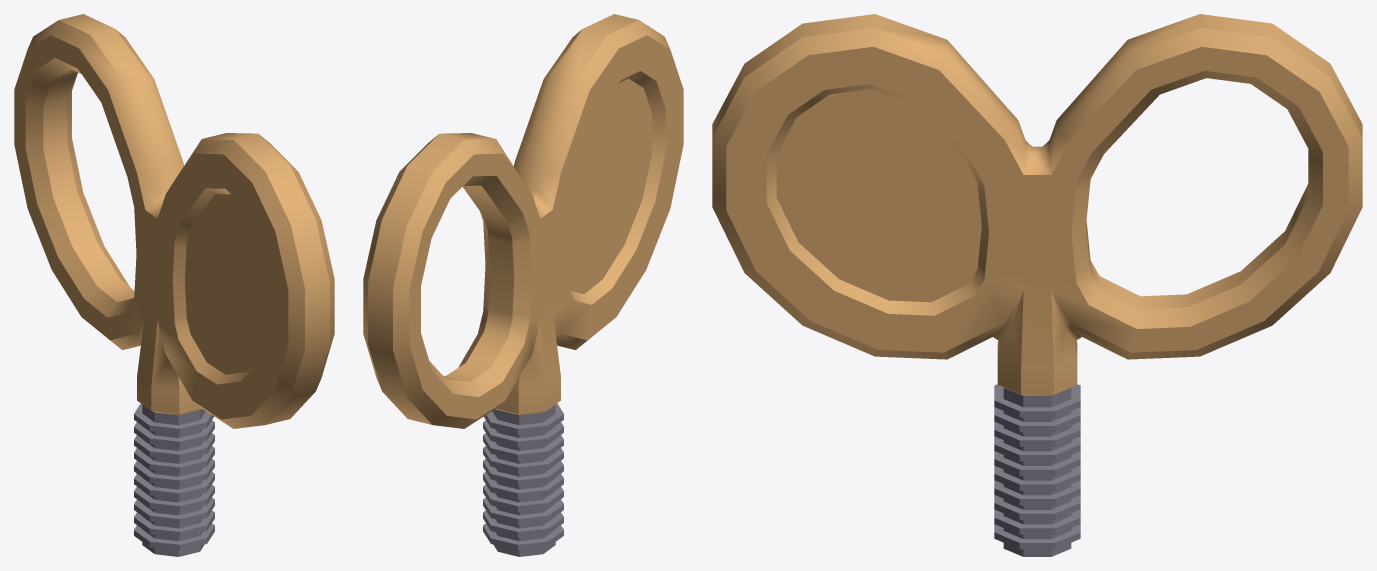
Rendered from Aufziehschlüssel_02_SingleHole.fbx.
The picture shows the model from 3 angles, left to right: view 1: azimuth 30°, elevation 25°; view 2: azimuth 150°, elevation 25°; view 3: azimuth 270°, elevation 25°; orthographic projection. The views are drawn at different scales.
Parts seen in each view (by area): view 1: Aufziehschlüssel_01.001; view 2: Aufziehschlüssel_01.001; view 3: Aufziehschlüssel_01.001.
Boxes of the visible parts, left/top/right/bottom form: Aufziehschlüssel_01.001: left=14, top=14, right=334, bottom=556; Aufziehschlüssel_01.001: left=363, top=14, right=683, bottom=556; Aufziehschlüssel_01.001: left=712, top=14, right=1362, bottom=556.
Bounding box in the file's own units: 14.67 × 98.12 × 111.
